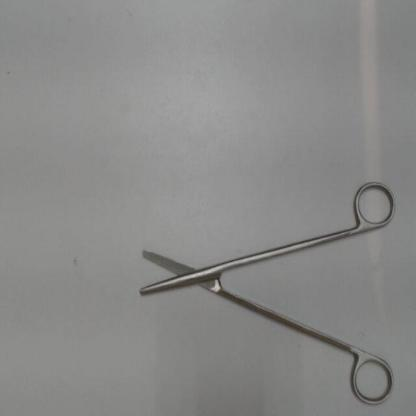9 Metzenbaum Scissors: (138, 172, 400, 414)
